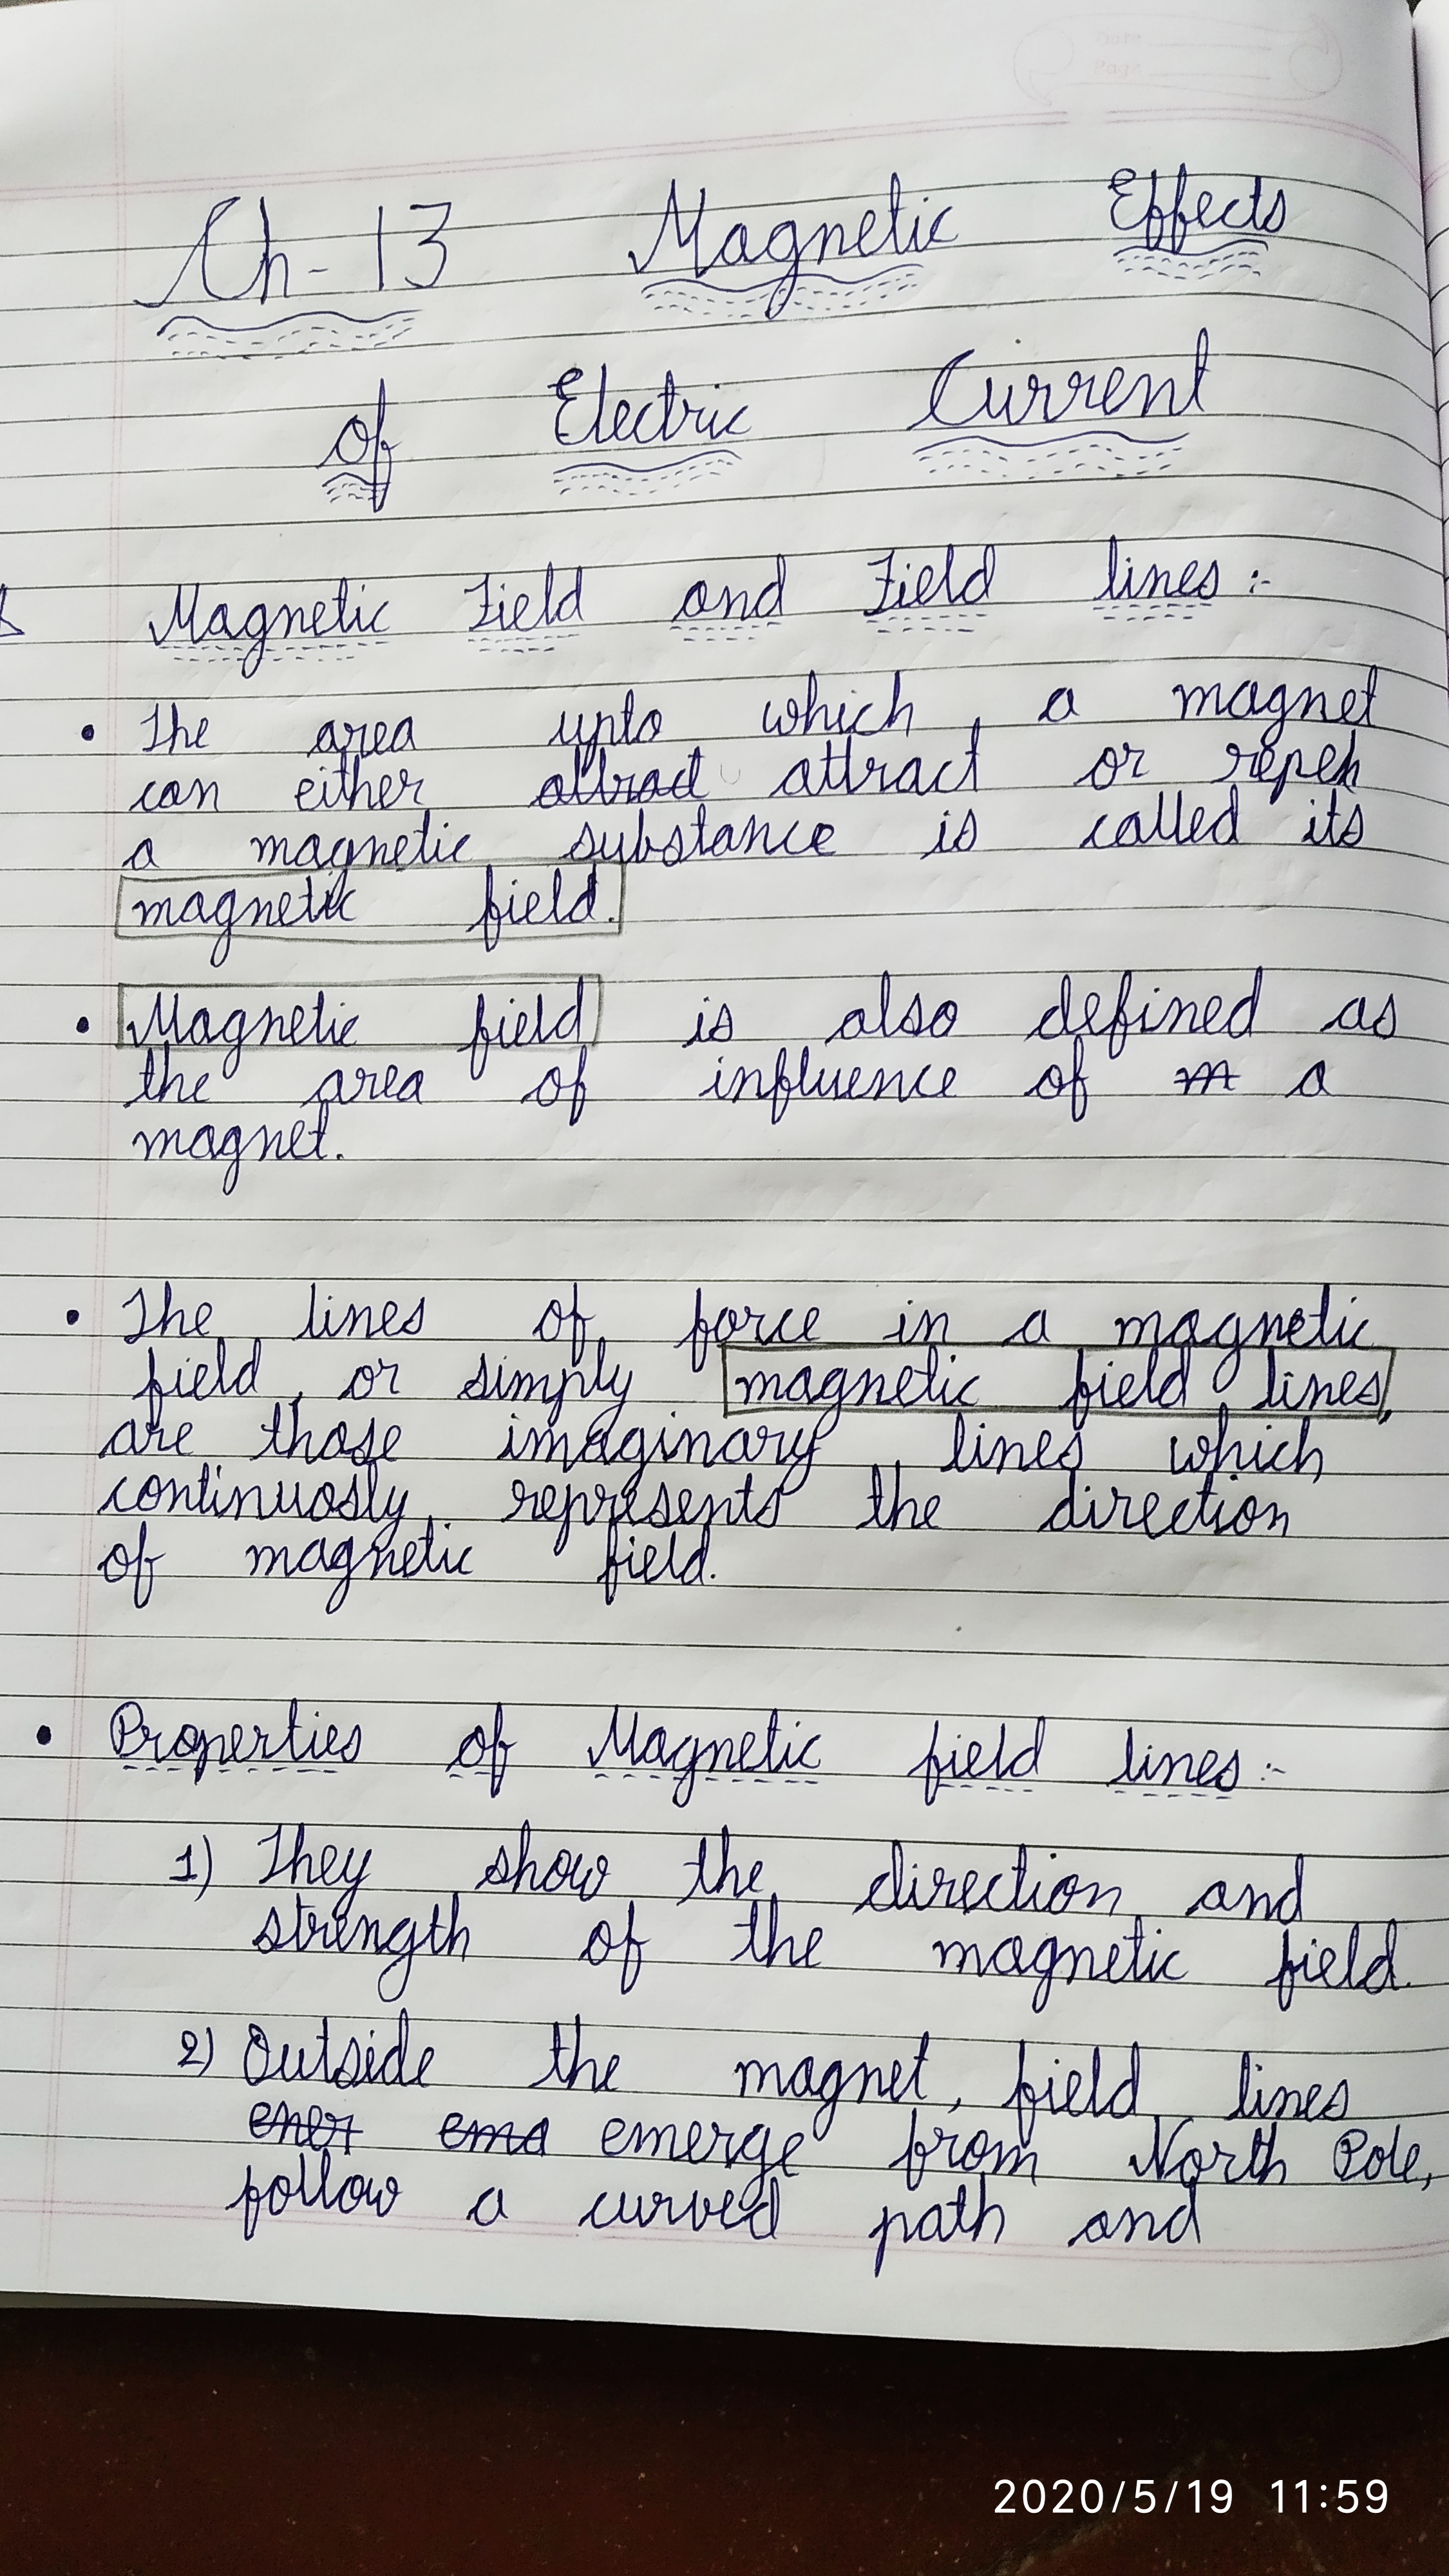C: (193, 191, 251, 303)
E: (552, 364, 587, 448), (1106, 165, 1141, 234)
F: (862, 548, 897, 617), (462, 573, 495, 632)
M: (644, 175, 709, 276), (163, 580, 202, 644), (602, 1704, 639, 1762), (145, 989, 182, 1044)
O: (241, 2022, 272, 2088)
P: (108, 1700, 145, 1757)
T: (257, 1824, 285, 1888), (120, 1286, 150, 1345), (138, 701, 163, 754)
a: (715, 219, 755, 267), (1224, 678, 1261, 720), (989, 1934, 1026, 1974), (1332, 994, 1369, 1033), (1295, 1058, 1330, 1099), (294, 1534, 329, 1575), (780, 755, 814, 798), (718, 1426, 755, 1463), (1042, 685, 1077, 724), (1168, 1307, 1201, 1348), (679, 577, 711, 619), (782, 1364, 814, 1405), (893, 754, 924, 796), (786, 2056, 816, 2098), (1113, 810, 1146, 847), (387, 715, 419, 754), (837, 1007, 870, 1042), (203, 602, 235, 639), (313, 1069, 345, 1106), (1019, 1307, 1051, 1345), (579, 1428, 610, 1465), (639, 1725, 667, 1766), (1198, 1877, 1230, 1913), (108, 1417, 138, 1454), (396, 1069, 426, 1104), (186, 1123, 216, 1159), (292, 832, 320, 869), (708, 821, 736, 858), (177, 890, 207, 924), (188, 1007, 214, 1044), (129, 837, 157, 870), (313, 718, 340, 754), (157, 778, 182, 812)
b: (632, 805, 653, 863)
c: (630, 400, 660, 446), (796, 1732, 826, 1773), (770, 1307, 801, 1343), (1166, 1497, 1196, 1534), (909, 1062, 938, 1099), (108, 1476, 136, 1513), (982, 1872, 1007, 1913), (851, 701, 879, 736), (929, 759, 957, 794), (1267, 1440, 1295, 1474), (1217, 196, 1244, 232), (1088, 812, 1113, 849), (1161, 1950, 1189, 1982), (782, 817, 805, 856), (1350, 1318, 1376, 1352), (453, 1545, 478, 1576), (138, 778, 159, 814)
d: (1224, 964, 1267, 1042), (1361, 1920, 1399, 1994), (1033, 973, 1076, 1040), (867, 1840, 904, 1911), (750, 552, 789, 617), (379, 2008, 410, 2086), (1007, 1716, 1047, 1776), (1274, 1854, 1307, 1925), (959, 545, 998, 603), (554, 975, 587, 1042), (1208, 782, 1244, 846), (1159, 1345, 1192, 1410), (1047, 1472, 1079, 1532), (678, 1527, 709, 1587), (556, 564, 587, 623), (234, 1338, 264, 1396)
e: (849, 207, 885, 258), (1099, 364, 1132, 416), (1138, 1490, 1166, 1539), (1028, 1428, 1060, 1470), (1077, 991, 1106, 1037), (283, 1118, 313, 1161), (911, 563, 939, 607), (800, 1925, 828, 1969), (1198, 994, 1228, 1035), (1315, 1946, 1341, 1990), (510, 589, 536, 632), (285, 1003, 311, 1046), (892, 1364, 918, 1407), (734, 1730, 761, 1773), (957, 1868, 984, 1911), (410, 2045, 437, 2088), (379, 1424, 409, 1461), (1173, 559, 1201, 598), (373, 1299, 402, 1338), (609, 398, 633, 442), (317, 1844, 341, 1888), (226, 1723, 253, 1764), (1192, 189, 1217, 232), (306, 600, 334, 637), (600, 2051, 625, 2093), (1315, 741, 1338, 786), (294, 775, 320, 812), (372, 773, 398, 810), (189, 1300, 216, 1338), (798, 1306, 824, 1343), (1334, 1369, 1361, 1407), (1113, 1371, 1139, 1408), (1336, 686, 1361, 725), (1185, 805, 1210, 844), (188, 1364, 212, 1403), (1194, 1748, 1219, 1787), (1099, 1943, 1123, 1982), (918, 1493, 945, 1529), (510, 1010, 534, 1047), (672, 1488, 697, 1525), (540, 1484, 564, 1522), (639, 1545, 663, 1582), (962, 1741, 987, 1778), (398, 1541, 421, 1580), (329, 1914, 352, 1953), (520, 890, 545, 925), (936, 1065, 961, 1099), (379, 1063, 403, 1097), (172, 1421, 195, 1456), (370, 720, 391, 757), (276, 890, 297, 927), (743, 1859, 764, 1897), (389, 833, 412, 867), (320, 1723, 341, 1757), (193, 715, 212, 750)
f: (370, 377, 393, 513), (1106, 970, 1136, 1062), (488, 1700, 511, 1801), (621, 1900, 644, 1997), (131, 1520, 156, 1610), (481, 862, 504, 954), (768, 1046, 794, 1125), (1141, 166, 1166, 251), (469, 993, 492, 1083), (566, 1044, 591, 1127), (688, 1286, 711, 1375), (1169, 161, 1191, 257), (143, 1345, 166, 1430), (1276, 1928, 1299, 2013), (568, 1281, 589, 1369), (924, 1718, 945, 1806), (1070, 1346, 1092, 1431), (1070, 1035, 1090, 1125), (603, 1522, 621, 1606)
g: (763, 218, 803, 320), (377, 1916, 419, 2003), (1210, 1311, 1246, 1394), (812, 1366, 849, 1440), (324, 1536, 357, 1615), (239, 602, 271, 679), (1030, 1936, 1062, 2013), (209, 886, 239, 968), (671, 1734, 702, 1810), (219, 1007, 248, 1083), (617, 1426, 646, 1499), (218, 1123, 244, 1196), (1260, 681, 1288, 748)
h: (253, 191, 292, 304), (566, 2013, 600, 2091), (764, 1891, 796, 1967), (1212, 1401, 1246, 1470), (886, 1460, 920, 1529), (801, 667, 832, 734), (511, 1817, 538, 1893), (713, 1824, 740, 1897), (156, 1044, 188, 1104), (1293, 1415, 1325, 1476), (885, 671, 916, 729), (157, 1279, 188, 1336), (285, 1401, 313, 1461), (288, 1822, 315, 1884), (446, 1893, 471, 1959), (349, 754, 373, 810), (168, 702, 189, 750)
i: (1028, 1852, 1056, 1913), (1330, 1295, 1359, 1346), (651, 1410, 679, 1461), (1247, 1422, 1276, 1472), (1136, 985, 1162, 1035), (968, 1421, 993, 1468), (1079, 1483, 1104, 1530), (349, 584, 372, 635), (495, 996, 517, 1051), (501, 1412, 524, 1461), (706, 382, 725, 441), (1093, 1359, 1116, 1407), (488, 1353, 511, 1401), (931, 807, 954, 853), (1299, 1937, 1322, 1983), (893, 561, 915, 610), (303, 1709, 324, 1759), (904, 1861, 925, 1911), (938, 1353, 957, 1407), (211, 1463, 230, 1516), (1145, 1928, 1164, 1982), (1120, 556, 1141, 602), (318, 1295, 341, 1338), (895, 1299, 916, 1345), (945, 1732, 966, 1778), (361, 2029, 379, 2084), (492, 580, 511, 630), (692, 994, 711, 1044), (437, 1522, 455, 1575), (170, 1357, 193, 1398), (502, 878, 522, 925), (782, 1720, 801, 1767), (315, 764, 334, 810), (708, 1053, 727, 1097), (432, 821, 451, 863), (1136, 1743, 1157, 1782), (1304, 798, 1322, 844), (1277, 1369, 1295, 1408), (623, 1534, 639, 1576)
l: (586, 359, 610, 444), (1339, 1923, 1364, 1990), (876, 970, 899, 1037), (359, 1461, 384, 1523), (948, 1412, 973, 1472), (209, 1338, 234, 1396), (534, 559, 556, 626), (1100, 533, 1122, 600), (938, 543, 961, 605), (1139, 1346, 1164, 1403), (527, 991, 552, 1046), (987, 1721, 1010, 1780), (545, 867, 568, 924), (1118, 1727, 1141, 1783), (301, 1281, 322, 1338), (1169, 787, 1189, 846), (1148, 789, 1169, 842), (794, 1044, 816, 1097), (1261, 1345, 1279, 1408), (591, 1336, 610, 1391), (663, 1530, 679, 1576)
m: (1169, 681, 1223, 717), (738, 2058, 782, 2097), (1116, 1307, 1162, 1345), (936, 1939, 982, 1974), (738, 1369, 782, 1405), (246, 1543, 290, 1576), (529, 1428, 570, 1463), (140, 1127, 184, 1159), (131, 895, 173, 927), (510, 1369, 550, 1401), (255, 833, 290, 869)
n: (809, 219, 847, 264), (713, 584, 750, 623), (1083, 1881, 1123, 1916), (741, 812, 771, 856), (271, 603, 308, 639), (1164, 994, 1198, 1033), (855, 1366, 886, 1407), (352, 1913, 384, 1953), (189, 775, 223, 812), (870, 1065, 904, 1102), (1297, 685, 1329, 724), (232, 1483, 264, 1522), (1242, 1882, 1272, 1923), (1139, 561, 1171, 598), (257, 1003, 285, 1044), (1161, 1752, 1192, 1787), (1065, 1944, 1097, 1980), (994, 1435, 1024, 1472), (166, 1477, 196, 1514), (257, 1123, 285, 1162), (706, 1736, 734, 1775), (345, 1302, 373, 1339), (1306, 1373, 1334, 1410), (683, 1426, 709, 1465), (924, 1307, 950, 1345), (704, 1493, 734, 1525), (248, 893, 274, 929), (370, 1546, 396, 1580), (1265, 1500, 1290, 1534), (366, 833, 389, 867)
o: (333, 414, 372, 467), (1088, 745, 1122, 793), (455, 1723, 488, 1769), (540, 1847, 571, 1895), (1046, 1874, 1081, 1916), (586, 1920, 614, 1969), (534, 1063, 564, 1109), (133, 1472, 166, 1513), (317, 1419, 349, 1461), (306, 1481, 338, 1523), (101, 1541, 133, 1583), (927, 1000, 961, 1039), (1033, 1062, 1067, 1100), (536, 1297, 564, 1343), (1231, 1493, 1260, 1536), (635, 708, 665, 745), (170, 1721, 200, 1759), (713, 1306, 741, 1345), (349, 1364, 377, 1401)
p: (556, 1483, 589, 1557), (547, 1368, 587, 1428), (195, 1729, 225, 1785)
qqbclose: (196, 1833, 214, 1904), (198, 2024, 216, 2079)
qqfstop: (334, 1152, 345, 1162), (708, 1571, 718, 1582), (607, 915, 616, 925)
qqhyphen: (303, 264, 334, 280)
qqone: (168, 1842, 198, 1882)
qqthree: (398, 200, 455, 294)
qqtwo: (173, 2028, 205, 2066)
r: (1223, 740, 1260, 778), (1063, 370, 1099, 410), (1120, 740, 1154, 782), (510, 1477, 541, 1522), (754, 1424, 787, 1463), (396, 766, 426, 807), (246, 1723, 278, 1760), (1106, 1484, 1134, 1523), (860, 755, 890, 791), (350, 1065, 380, 1100), (929, 1868, 955, 1905), (377, 1357, 402, 1396), (341, 720, 370, 754), (741, 1304, 768, 1339), (593, 1484, 619, 1520), (306, 1911, 331, 1948), (140, 1725, 163, 1759)
s: (329, 2036, 363, 2089), (644, 1481, 679, 1527), (255, 1905, 285, 1953), (1339, 801, 1368, 847), (483, 1844, 513, 1886), (400, 1295, 428, 1338), (1056, 1431, 1085, 1472), (338, 1723, 364, 1762)
t: (1184, 326, 1214, 414), (879, 170, 909, 257), (957, 715, 985, 791), (653, 368, 681, 442), (278, 1697, 308, 1762), (1007, 1842, 1031, 1911), (308, 2017, 333, 2086), (1357, 663, 1382, 727), (1123, 1916, 1148, 1980), (743, 1898, 768, 1962), (1311, 1283, 1336, 1345), (863, 1461, 886, 1527), (1191, 1470, 1217, 1527), (308, 1100, 333, 1161), (688, 1836, 713, 1897), (839, 734, 862, 796), (761, 1707, 782, 1773), (329, 575, 352, 635), (134, 1047, 159, 1100), (547, 2022, 568, 2084), (616, 686, 637, 747), (288, 1891, 310, 1951), (732, 1472, 757, 1523), (264, 1401, 287, 1456), (816, 738, 839, 791), (412, 810, 435, 863), (423, 1902, 446, 1955), (1323, 786, 1343, 847), (308, 989, 329, 1046), (297, 874, 320, 924), (922, 1345, 941, 1403), (418, 1516, 437, 1575), (1246, 175, 1265, 232), (690, 801, 709, 856), (193, 1461, 212, 1514), (334, 750, 350, 803)
u: (982, 375, 1017, 421), (276, 2042, 310, 2082), (557, 709, 586, 747), (274, 1479, 303, 1514), (598, 828, 625, 862), (814, 1067, 842, 1097)
w: (570, 1851, 610, 1902), (1168, 1431, 1212, 1476), (761, 695, 801, 736)
y: (333, 1847, 372, 1920), (778, 1428, 817, 1497), (372, 1484, 410, 1552)
